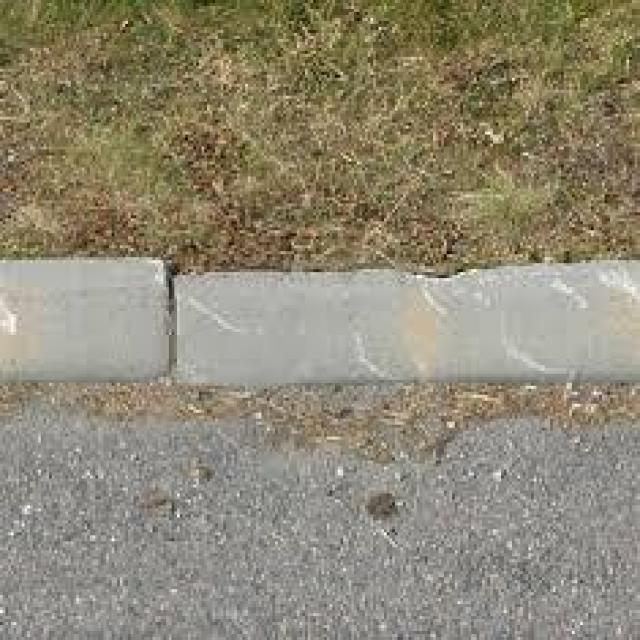curb: (1, 267, 633, 393)
